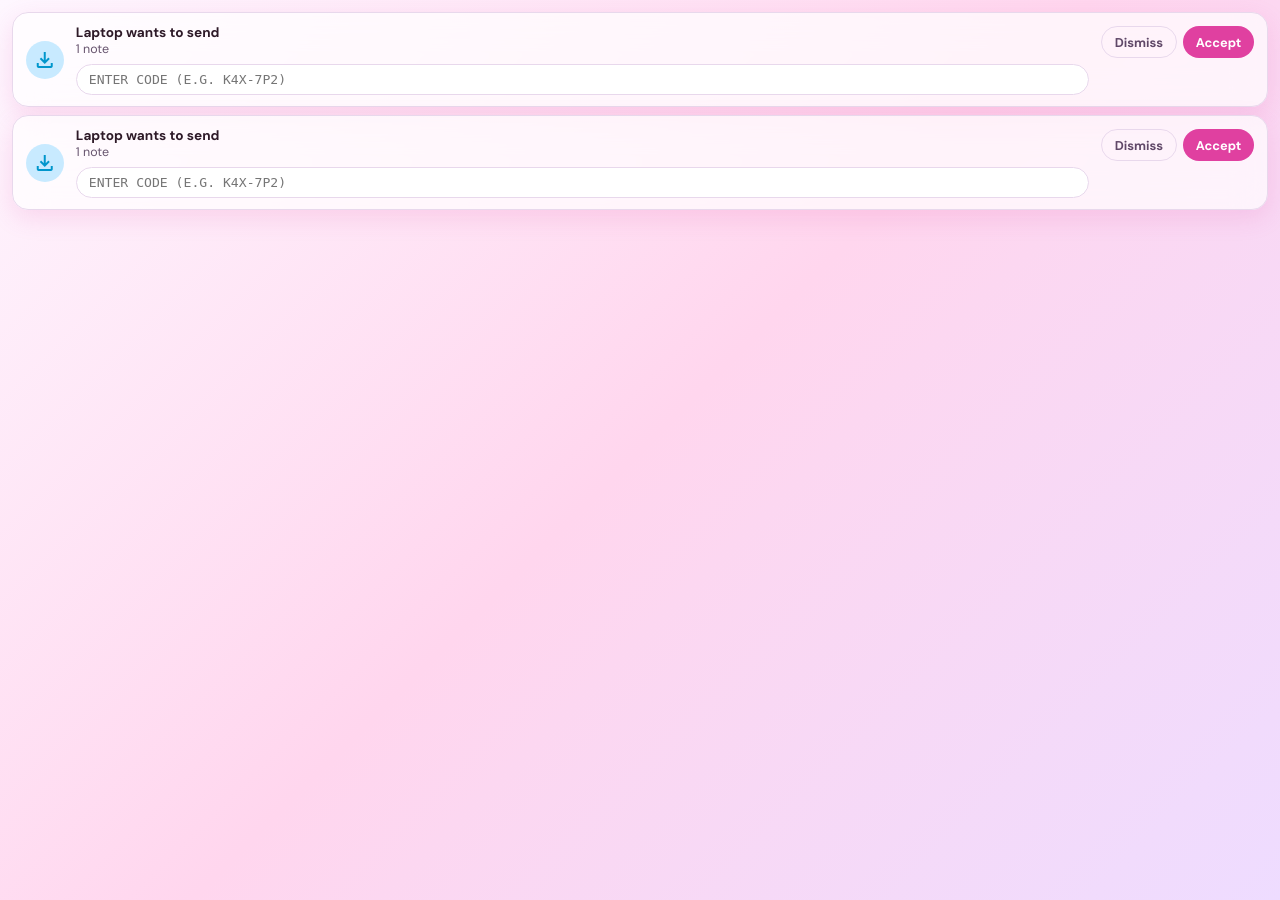
Scenario: keeping offers apart › only spins the offer being accepted
Step 1. Type "AAA111" into the 1st field with class "code-input" → (582, 79), box 76,64 -> 1089,95
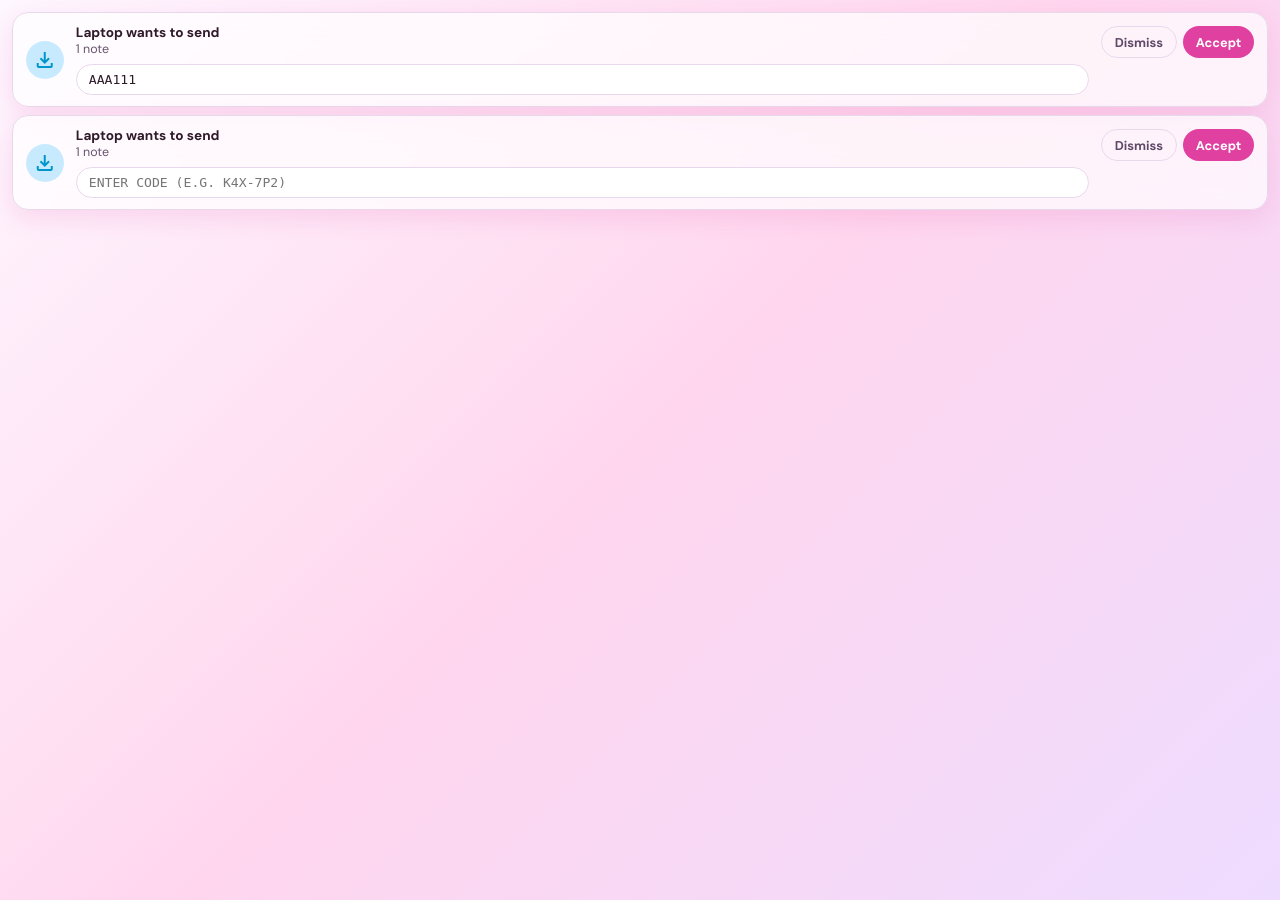
Step 2. Click the 1st button with class "btn-accept" → (1219, 42), box 1183,26 -> 1254,58
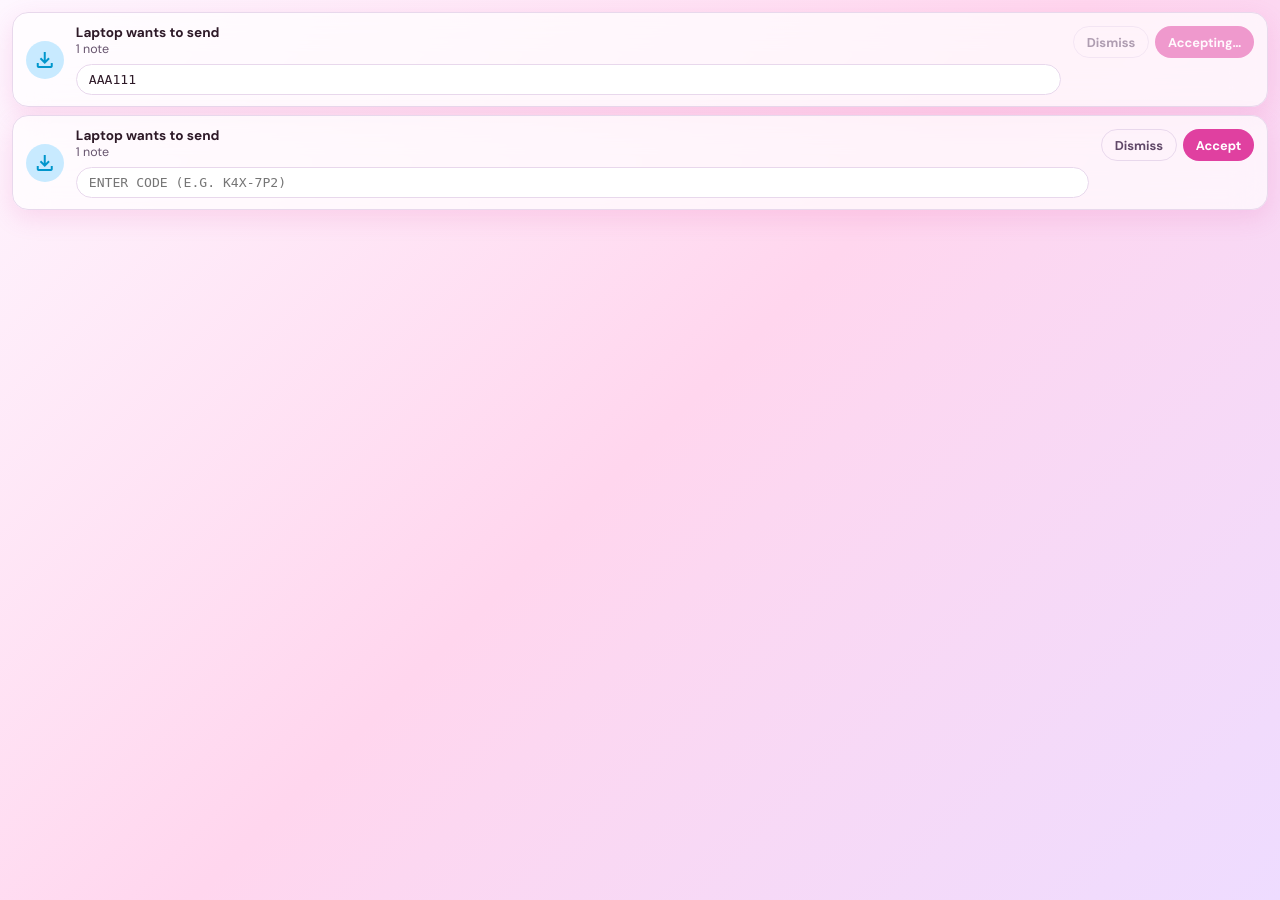
Expected: the button with class "btn-accept" showing "Accept" is enabled, 1183,129 -> 1254,161
Expected: the button with class "btn-accept" showing "Accepting…" is disabled, 1155,26 -> 1254,58
